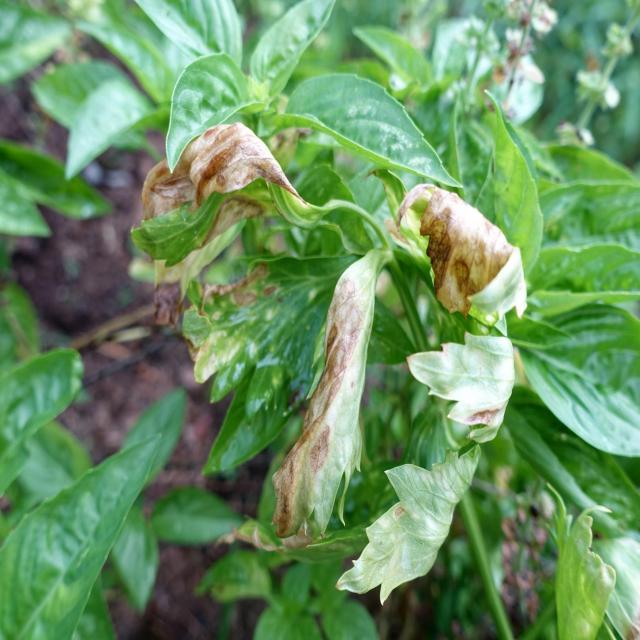blight: (411, 184, 518, 315)
